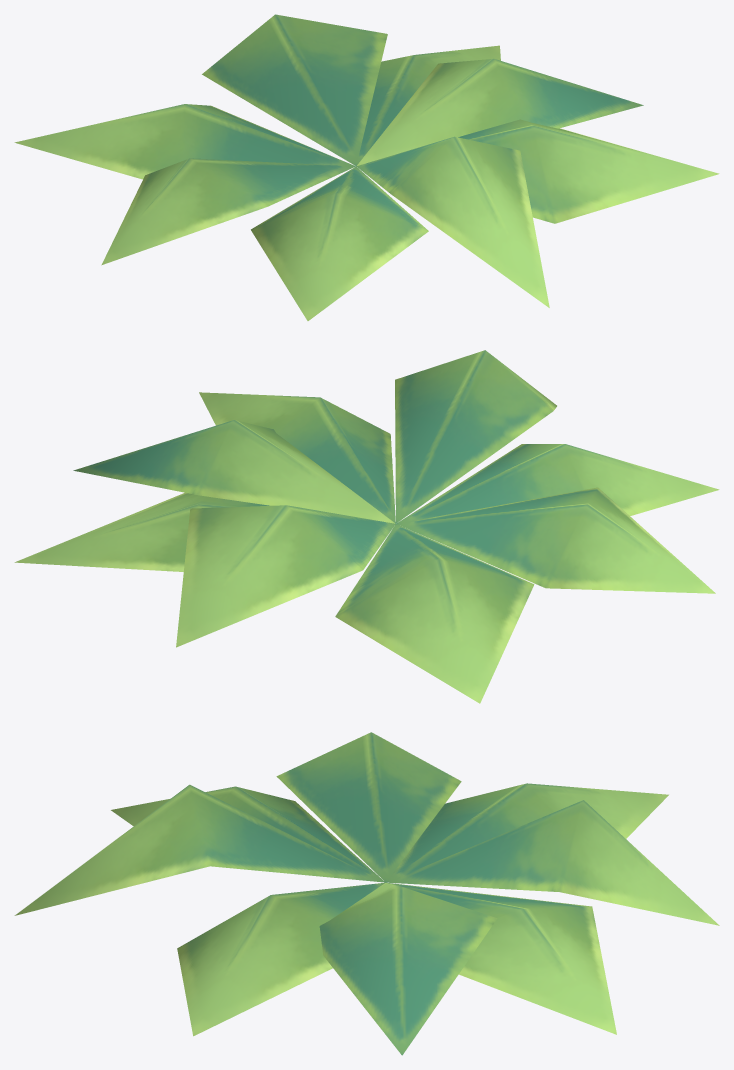
File: Weed1.FBX
3 views of the same model, one above another, from view 1: azimuth 30°, elevation 25°; view 2: azimuth 150°, elevation 25°; view 3: azimuth 270°, elevation 25° (orthographic). The views are drawn at different scales.
Parts seen in each view (by area): view 1: Object075; view 2: Object075; view 3: Object075.
Part boxes in pixels (x1=…): Object075: x1=14, y1=14, x2=719, y2=320; Object075: x1=14, y1=350, x2=719, y2=703; Object075: x1=14, y1=732, x2=719, y2=1055.
Size of the model in its own units: 47.58 by 9.18 by 47.11.
